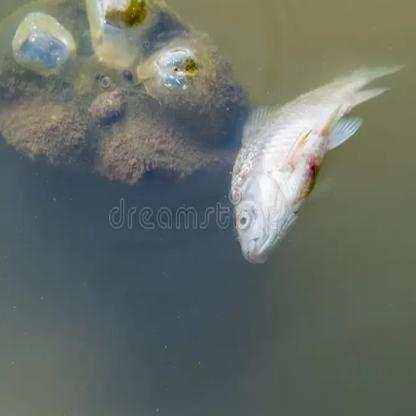deceased fish: (227, 54, 409, 264)
